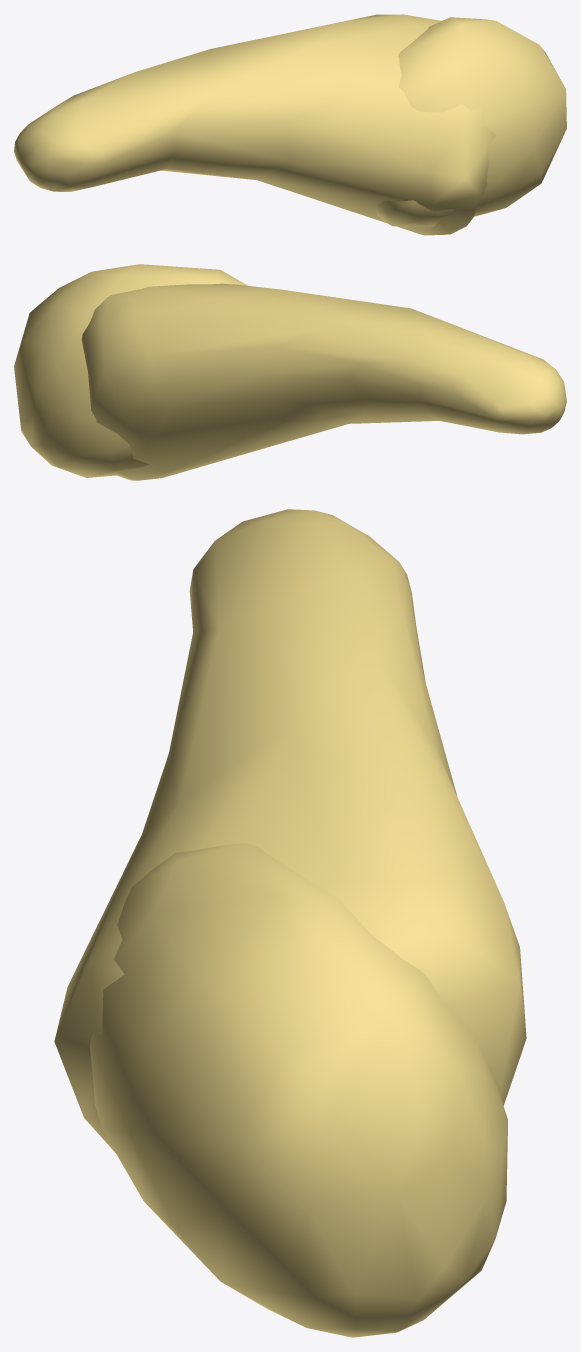
3 views of the same model, one above another, from view 1: azimuth 30°, elevation 25°; view 2: azimuth 150°, elevation 25°; view 3: azimuth 270°, elevation 25° (orthographic). The views are drawn at different scales.
Visible parts, largest first — view 1: ZA_50462f111fe44e3b; view 2: ZA_50462f111fe44e3b; view 3: ZA_50462f111fe44e3b.
Boxes of the visible parts, left/top/right/bottom form: ZA_50462f111fe44e3b: left=14, top=14, right=566, bottom=235; ZA_50462f111fe44e3b: left=14, top=264, right=566, bottom=480; ZA_50462f111fe44e3b: left=54, top=509, right=526, bottom=1337.
Size of the model in its own units: 0.017 by 0.00639 by 0.00647.
